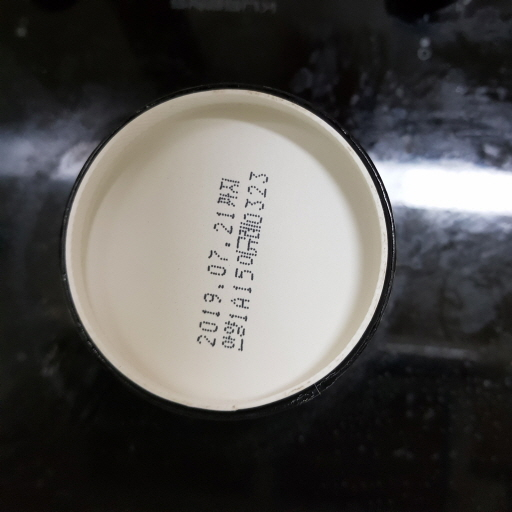Paper_1: (62, 86, 397, 415)
